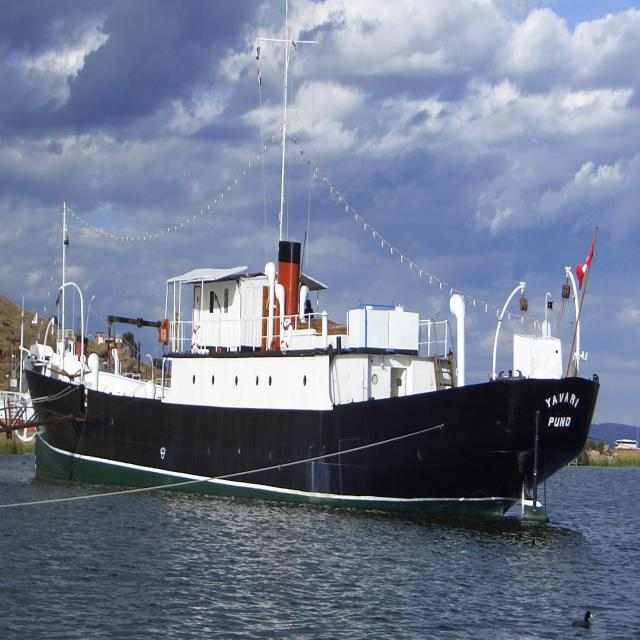fishing boat: (20, 183, 604, 526)
